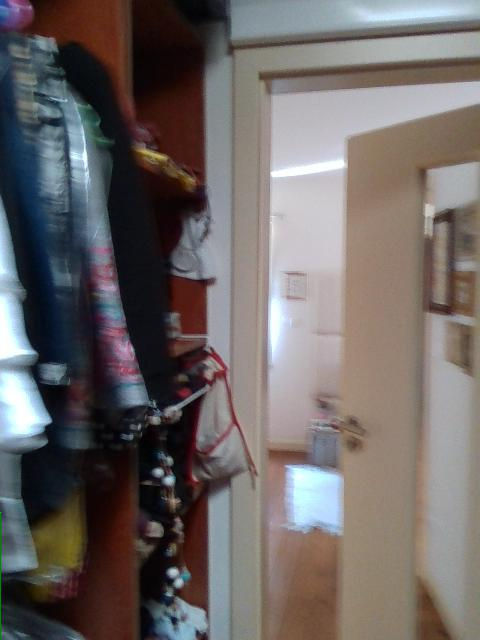semi_door: (200, 12, 479, 639)
